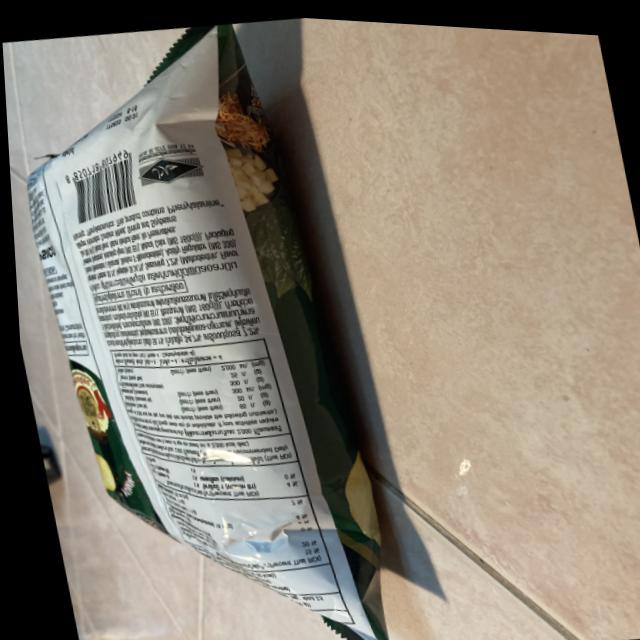Laygreen: (0, 0, 416, 640)
